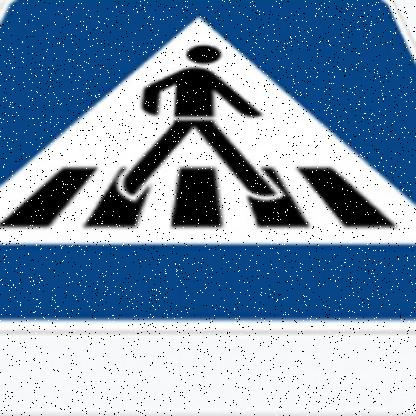Pedestrian Crossing: (1, 1, 416, 334)
